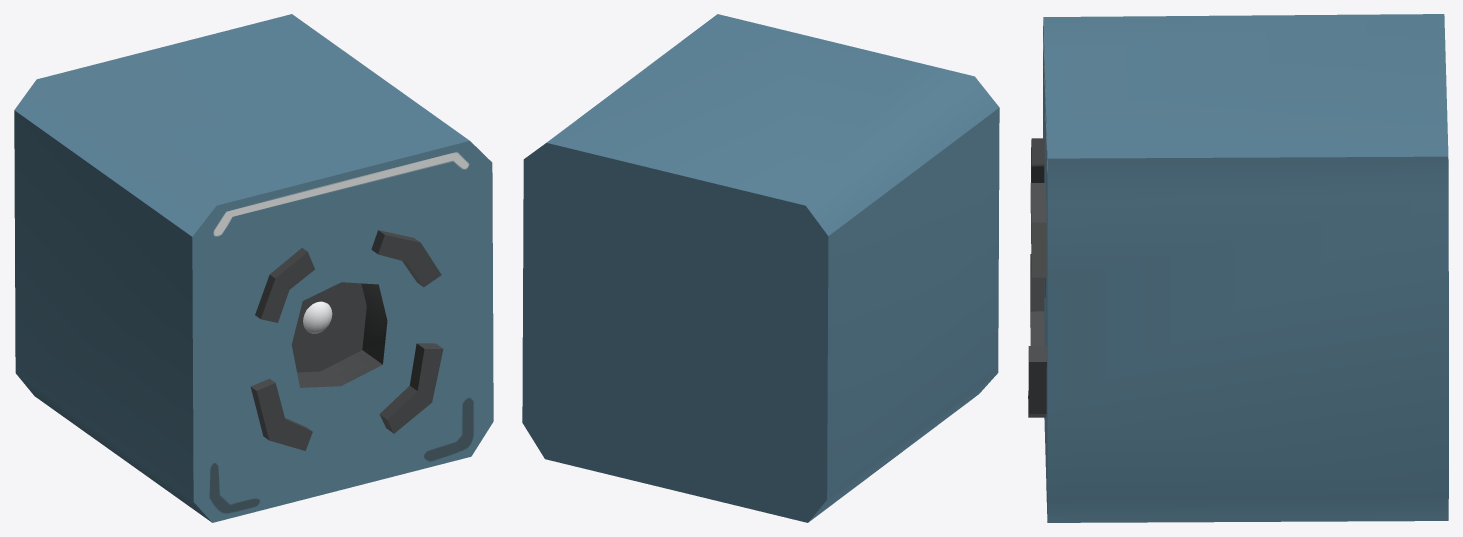
Rendered from LightEmitter.fbx.
The picture shows the model from 3 angles, left to right: view 1: azimuth 30°, elevation 25°; view 2: azimuth 150°, elevation 25°; view 3: azimuth 270°, elevation 25°; orthographic projection. The views are drawn at different scales.
Parts seen in each view (by area): view 1: pCube13; view 2: pCube13; view 3: pCube13.
Part boxes in pixels (box(x1,y1,x2,y2)): pCube13: box(14, 14, 493, 522); pCube13: box(522, 14, 999, 522); pCube13: box(1028, 14, 1448, 522).
Size of the model in its own units: 1.87 by 1.85 by 1.93.
Materials: 1 (1 with a texture image).
